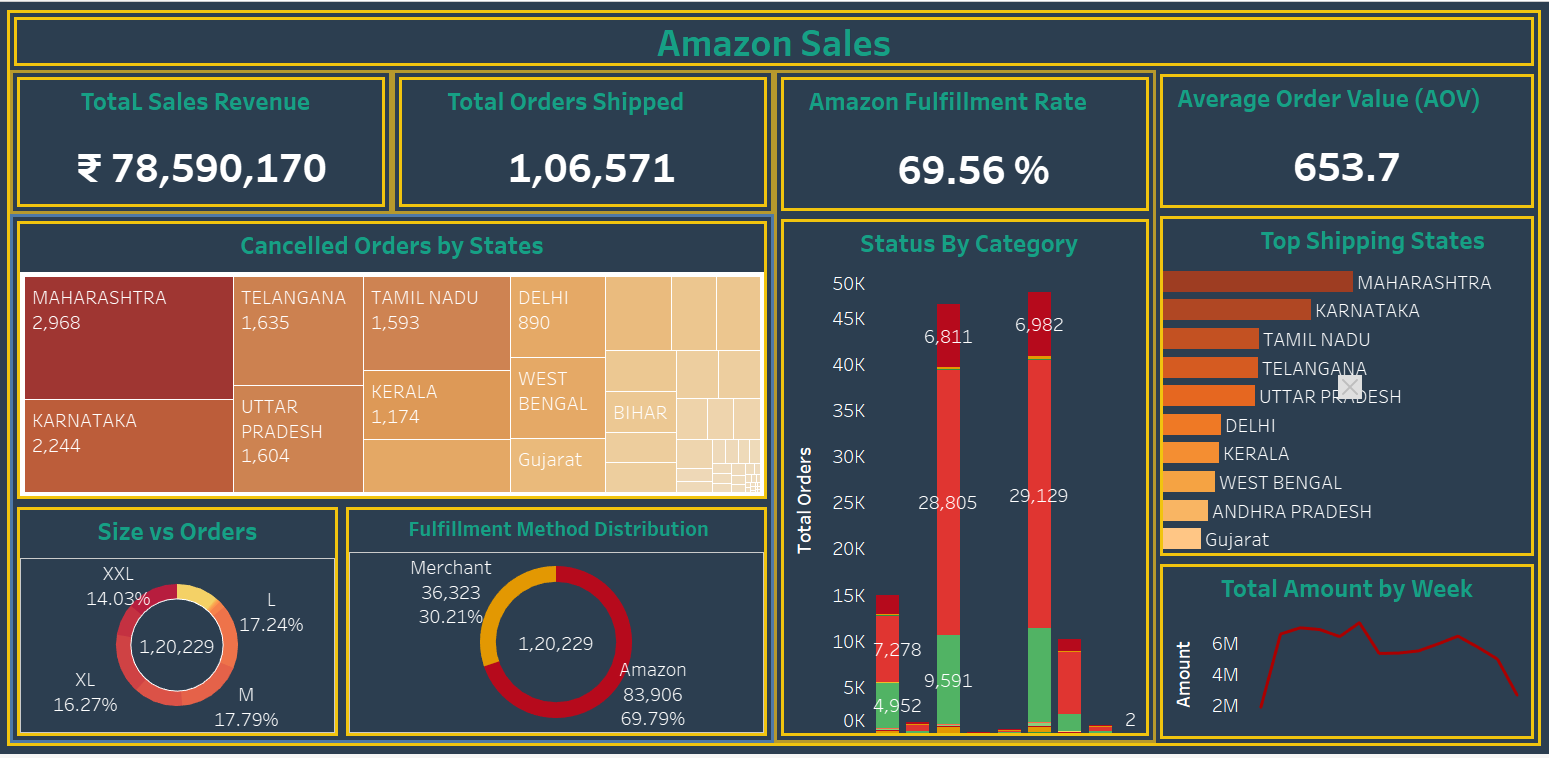

What the dashboard file says about the page in this screenshot:
{"tool":"tableau","page":{"name":"Dashboard 1","canvas":[1550,752],"ordinal":0},"visuals":[{"type":"title","box":[11,11,1528,57]},{"type":"worksheet","title":"Average Order Value","mark":"Automatic","box":[1156.9,68,382.1,142]},{"type":"worksheet","title":"Total sales Revenue","mark":"Automatic","box":[14,71,375.9,137.7]},{"type":"worksheet","title":"Total orders","mark":"Automatic","box":[395.9,71,376,137.7]},{"type":"worksheet","title":"Amazon Fulfillment Rate","mark":"Automatic","box":[778,71,376,142]},{"type":"worksheet","title":"Top Shipping States","mark":"Automatic","rows":["ship-state"],"cols":["Calculation_242631473845780481"],"box":[1156.9,210,382.1,348]},{"type":"worksheet","title":"Status By Category","mark":"Automatic","rows":["Calculation_242631473845780481"],"cols":["Category"],"box":[778,213,376,525]},{"type":"worksheet","title":"Cancelled Orders by States","mark":"Automatic","box":[14,214.7,758,286]},{"type":"dashboard-object","box":[1339,373,24,24]},{"type":"worksheet","title":"Size vs Orders","mark":"Pie","rows":["Calculation_1271141039003271171","Calculation_1271141039003271171"],"box":[14,500.7,329,237.3]},{"type":"worksheet","title":"Fulfillment Method Distribution","mark":"Pie","rows":["Calculation_1271141039003271171","Calculation_1271141039003271171"],"box":[343,500.7,428.9,237.3]},{"type":"worksheet","title":"Total Amount by Week","mark":"Automatic","rows":["Amount"],"cols":["Date"],"box":[1156.9,558,382.1,183]}]}

Visuals, with their boxes in screenshot pixels (x1, y1, x2, y2), scaled from the page's 1550x752 canvas onto the 1549x758 screenshot:
title: detection(11, 11, 1538, 69)
"Average Order Value" worksheet: detection(1156, 69, 1538, 212)
"Total sales Revenue" worksheet: detection(14, 72, 390, 210)
"Total orders" worksheet: detection(396, 72, 771, 210)
"Amazon Fulfillment Rate" worksheet: detection(777, 72, 1153, 215)
"Top Shipping States" worksheet: detection(1156, 212, 1538, 562)
"Status By Category" worksheet: detection(777, 215, 1153, 744)
"Cancelled Orders by States" worksheet: detection(14, 216, 772, 505)
dashboard-object: detection(1338, 376, 1362, 400)
"Size vs Orders" worksheet (Pie marks): detection(14, 505, 343, 744)
"Fulfillment Method Distribution" worksheet (Pie marks): detection(343, 505, 771, 744)
"Total Amount by Week" worksheet: detection(1156, 562, 1538, 747)
